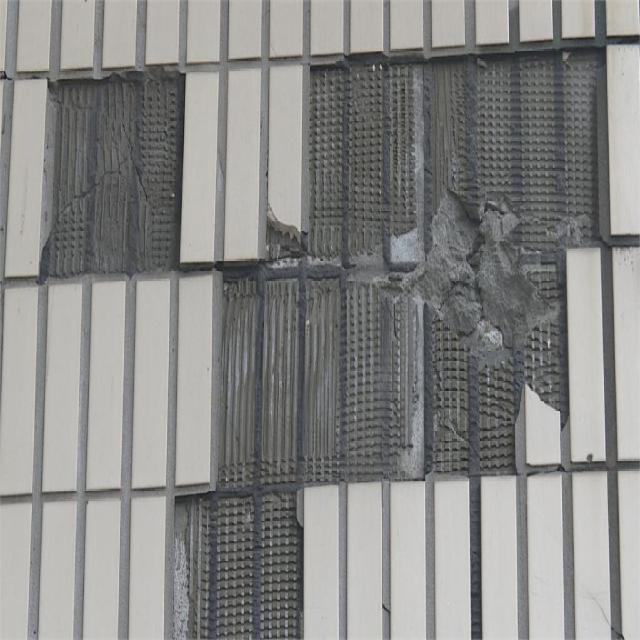tile: (172, 47, 599, 638), (42, 72, 183, 272)
